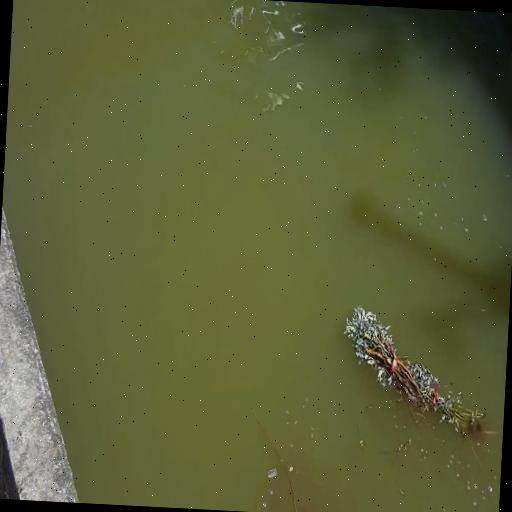twig: (334, 295, 506, 452)
